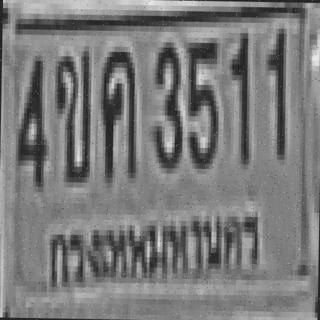A02: (51, 45, 89, 177)
A04: (98, 46, 136, 178)
N01: (228, 27, 248, 164), (264, 26, 284, 157)
N03: (151, 36, 181, 168)
N04: (15, 50, 46, 182)
N05: (184, 37, 217, 164)
P04: (40, 199, 274, 296)
